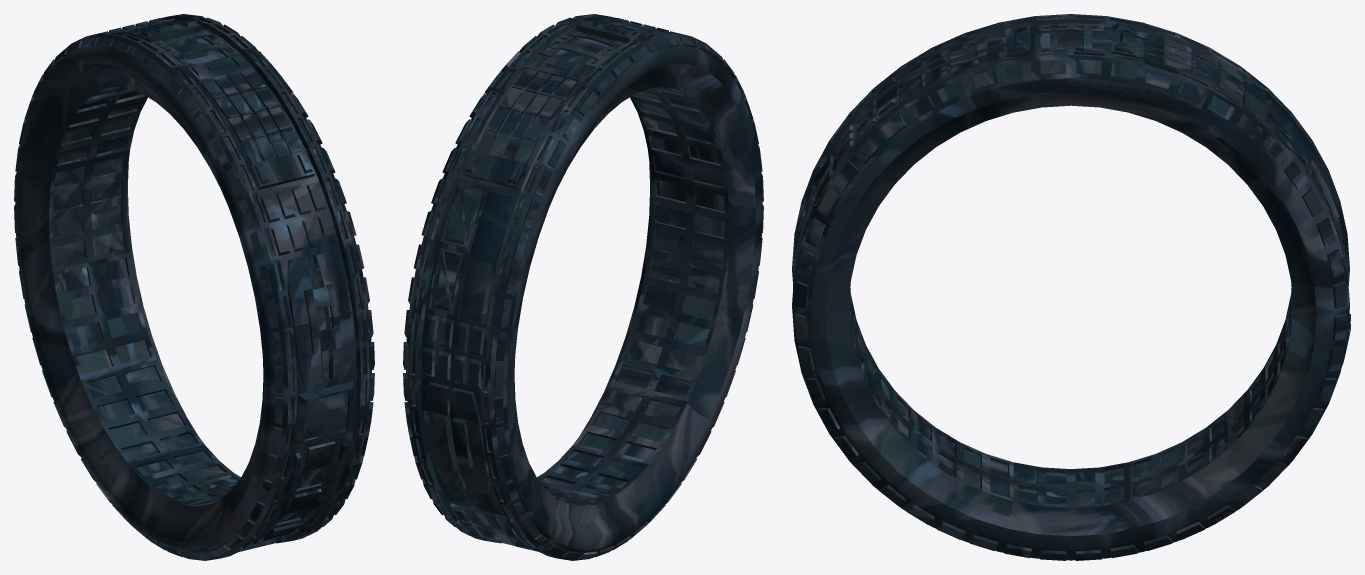
The model's file is outerStation.obj.
3 views of the same model, side by side, from view 1: azimuth 30°, elevation 25°; view 2: azimuth 150°, elevation 25°; view 3: azimuth 270°, elevation 25° (orthographic). The views are drawn at different scales.
Visible parts, largest first — view 1: Outter_Cylinder.002; view 2: Outter_Cylinder.002; view 3: Outter_Cylinder.002.
Boxes of the visible parts, <box> form: Outter_Cylinder.002: <box>14,14,374,560</box>; Outter_Cylinder.002: <box>403,14,763,560</box>; Outter_Cylinder.002: <box>792,14,1350,560</box>.
Bounding box in the file's own units: 8.13 × 36.71 × 36.73.
